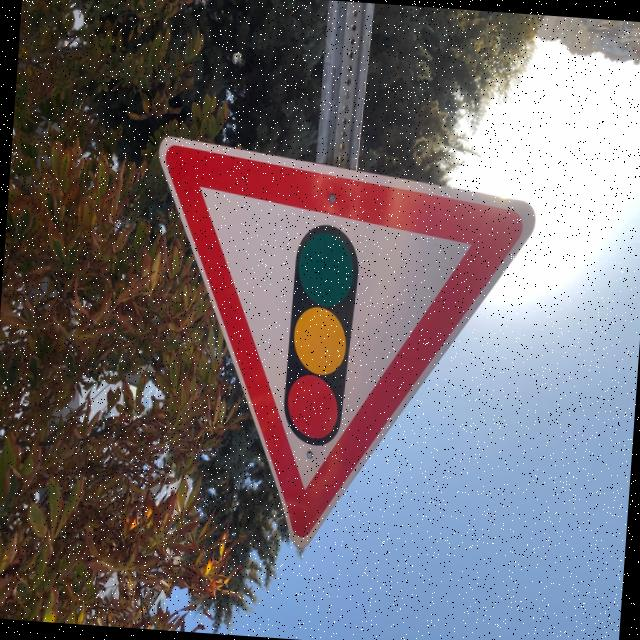light_traffic: (131, 135, 540, 560)
